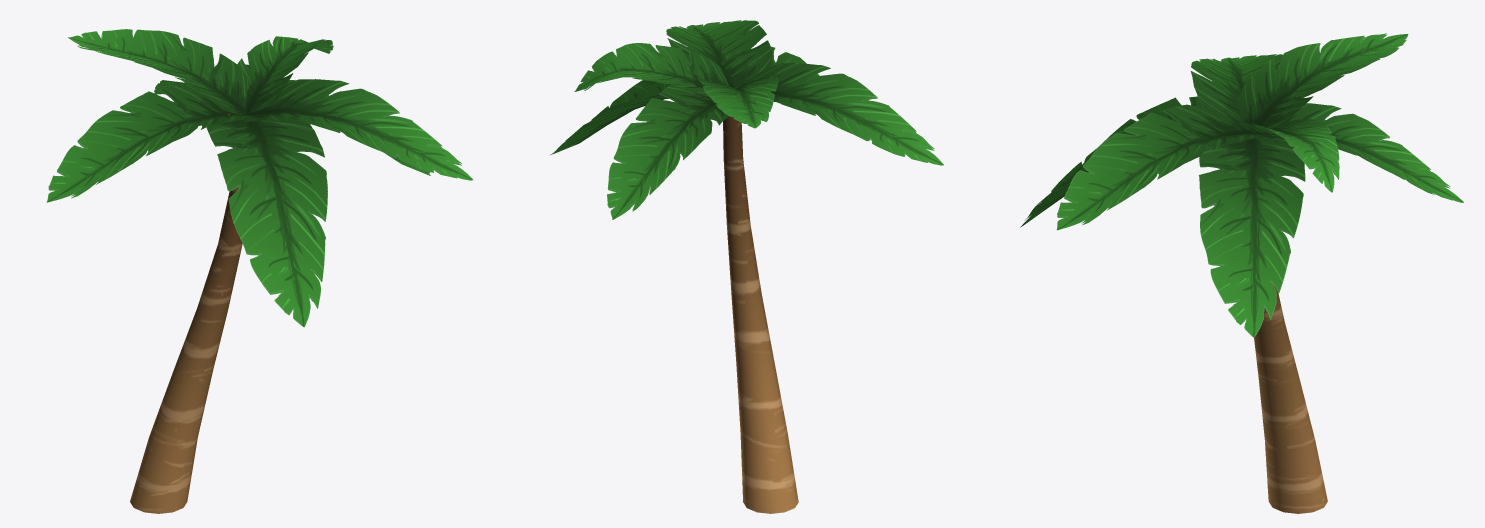
File: tree2.fbx
The picture shows the model from 3 angles, left to right: view 1: azimuth 30°, elevation 25°; view 2: azimuth 150°, elevation 25°; view 3: azimuth 270°, elevation 25°; orthographic projection. The views are drawn at different scales.
Visible parts, largest first — view 1: leave3, tree1, leave4, leave2, leave6, leave7; view 2: tree1, leave5, leave4, leave7, leave2, leave6, leave8; view 3: leave8, leave2, tree1, leave6, leave5, leave4, leave7, leave3.
Boxes of the visible parts, x1=… form: leave3: x1=206, y1=113, x2=327, y2=327; tree1: x1=130, y1=186, x2=242, y2=513; leave4: x1=46, y1=84, x2=253, y2=202; leave2: x1=243, y1=79, x2=473, y2=180; leave6: x1=68, y1=29, x2=250, y2=114; leave7: x1=237, y1=36, x2=333, y2=113; tree1: x1=723, y1=116, x2=798, y2=513; leave5: x1=607, y1=84, x2=729, y2=219; leave4: x1=739, y1=63, x2=943, y2=165; leave7: x1=574, y1=43, x2=728, y2=96; leave2: x1=666, y1=20, x2=772, y2=88; leave6: x1=694, y1=73, x2=778, y2=128; leave8: x1=550, y1=80, x2=709, y2=154; leave8: x1=1198, y1=133, x2=1305, y2=337; leave2: x1=1056, y1=104, x2=1262, y2=230; tree1: x1=1254, y1=285, x2=1327, y2=513; leave6: x1=1238, y1=33, x2=1408, y2=132; leave5: x1=1254, y1=103, x2=1463, y2=202; leave4: x1=1190, y1=54, x2=1282, y2=125; leave7: x1=1231, y1=119, x2=1339, y2=192; leave3: x1=1020, y1=96, x2=1207, y2=227.
Size of the model in its own units: 130 by 136 by 129.
3 materials, 3 textured.
